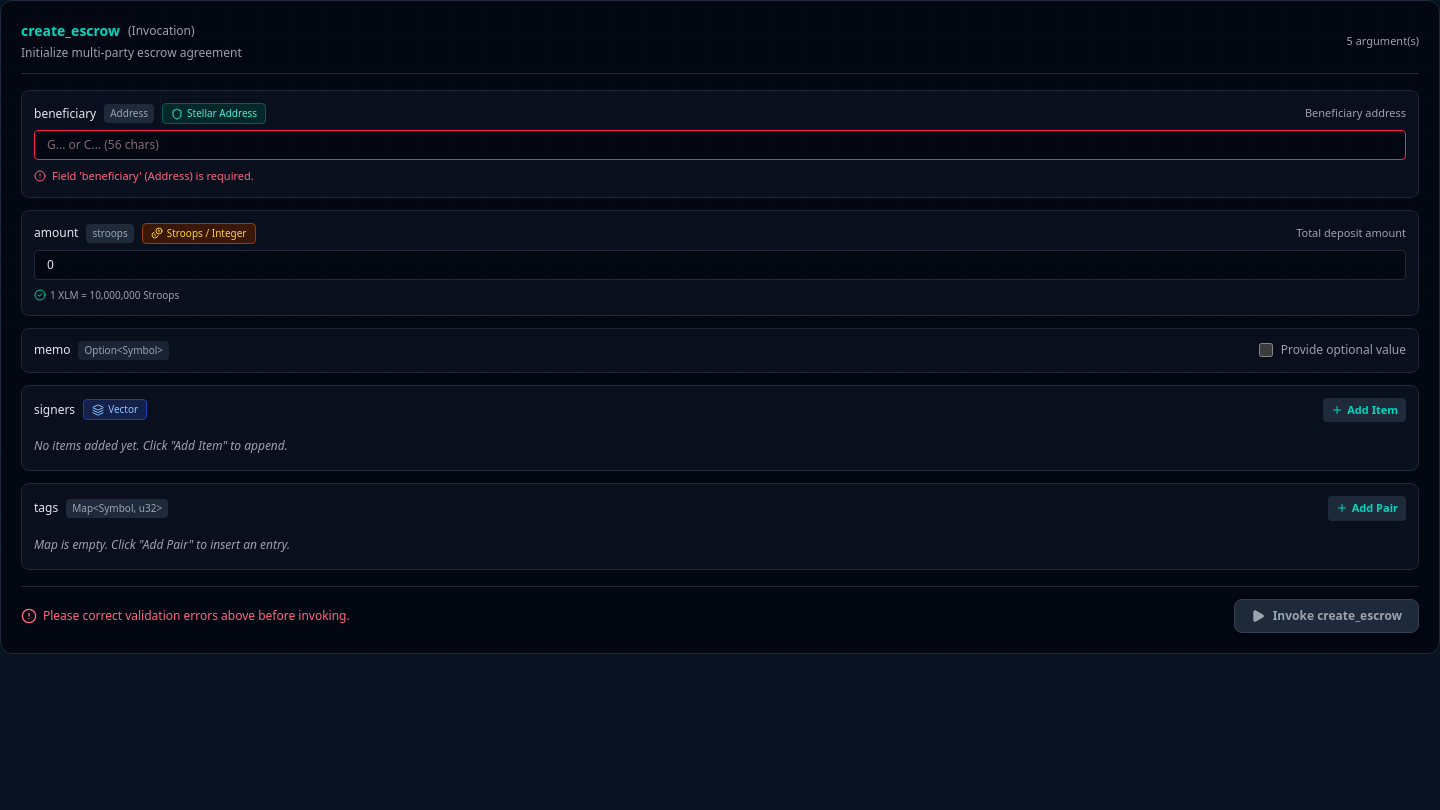
Test case: ContractInvocationForm Component › supports dynamic vector item addition and removal
Click the button with test id "add-vec-item-signers" at (1365, 410), box [1323,398,1406,422]
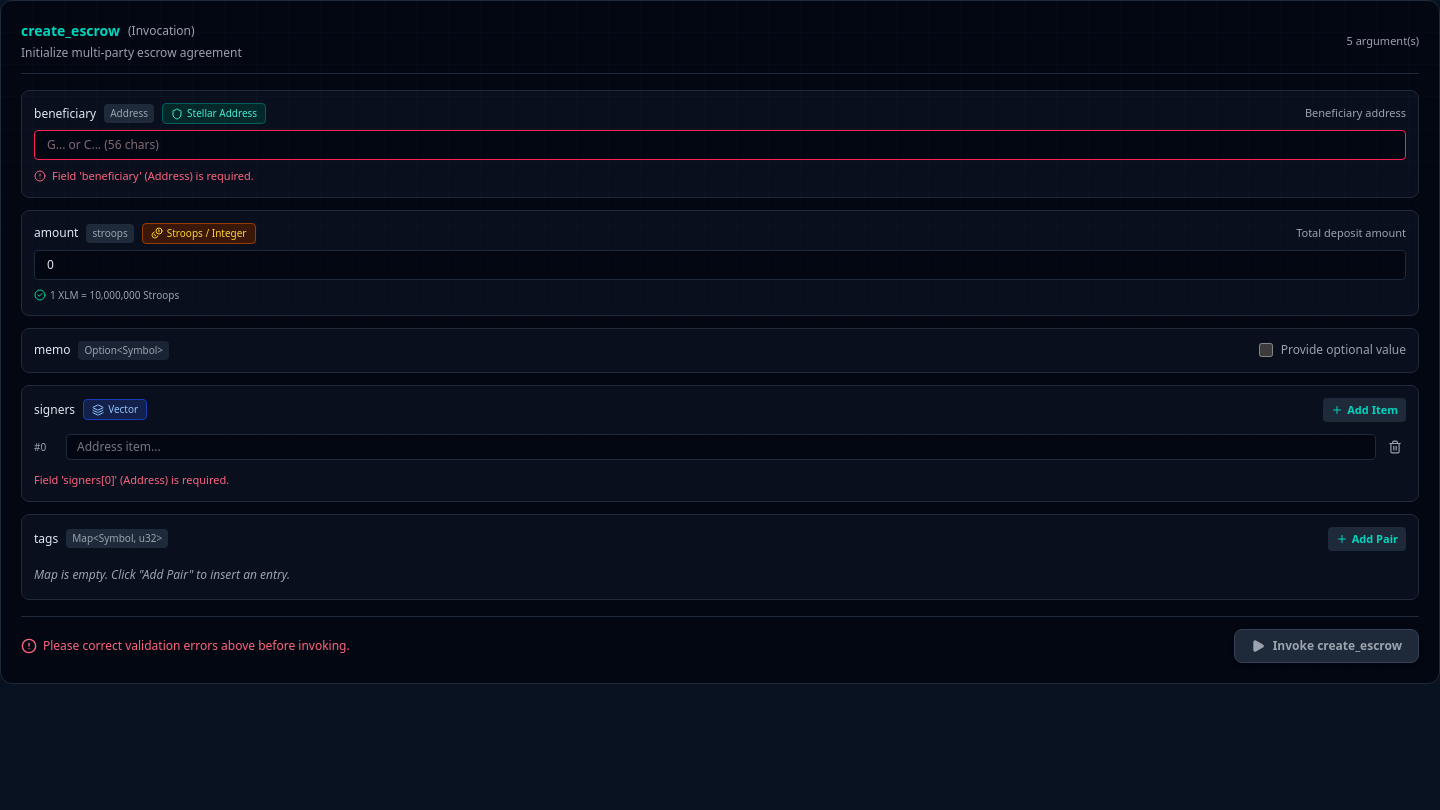
Check: the field with test id "vec-item-signers-0" is shown, box [66,434,1376,460]
// Add another item
Click the button with test id "add-vec-item-signers" at (1365, 410), box [1323,398,1406,422]
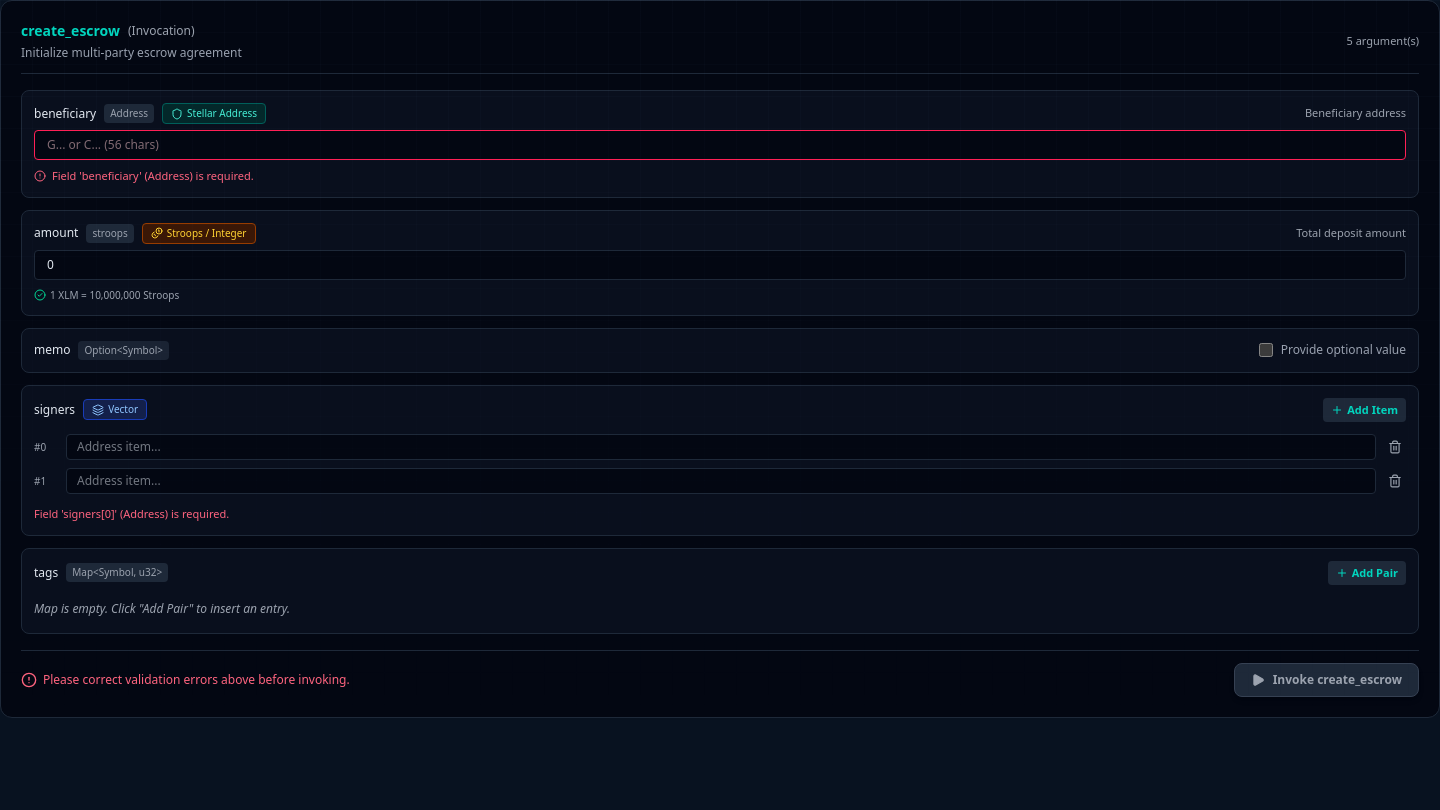
Check: the field with test id "vec-item-signers-1" is shown, box [66,468,1376,494]
// Remove first item
Click the button with test id "remove-vec-item-signers-0" at (1395, 447), box [1384,436,1406,458]
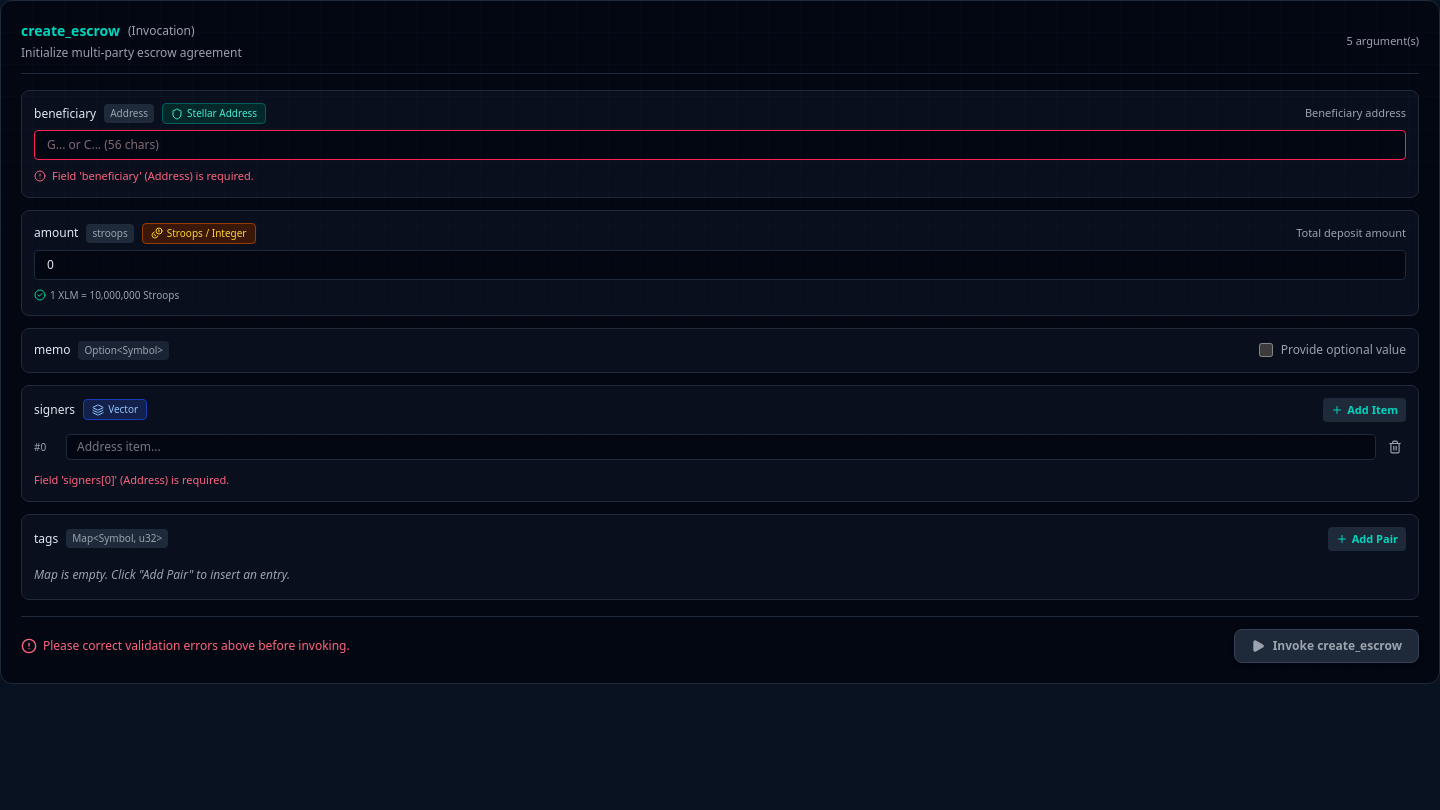
Check: the field with test id "vec-item-signers-1" is gone
